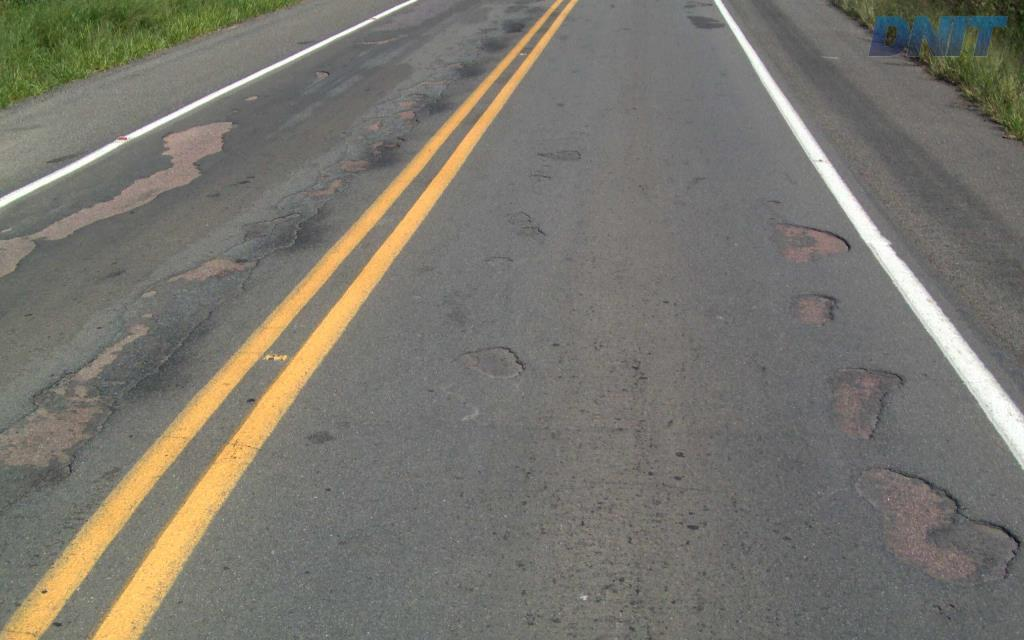pothole: (853, 456, 1022, 598), (825, 361, 909, 446), (767, 218, 856, 263), (455, 337, 530, 383), (793, 284, 844, 325), (502, 205, 547, 242), (534, 143, 583, 163), (477, 250, 516, 275)
